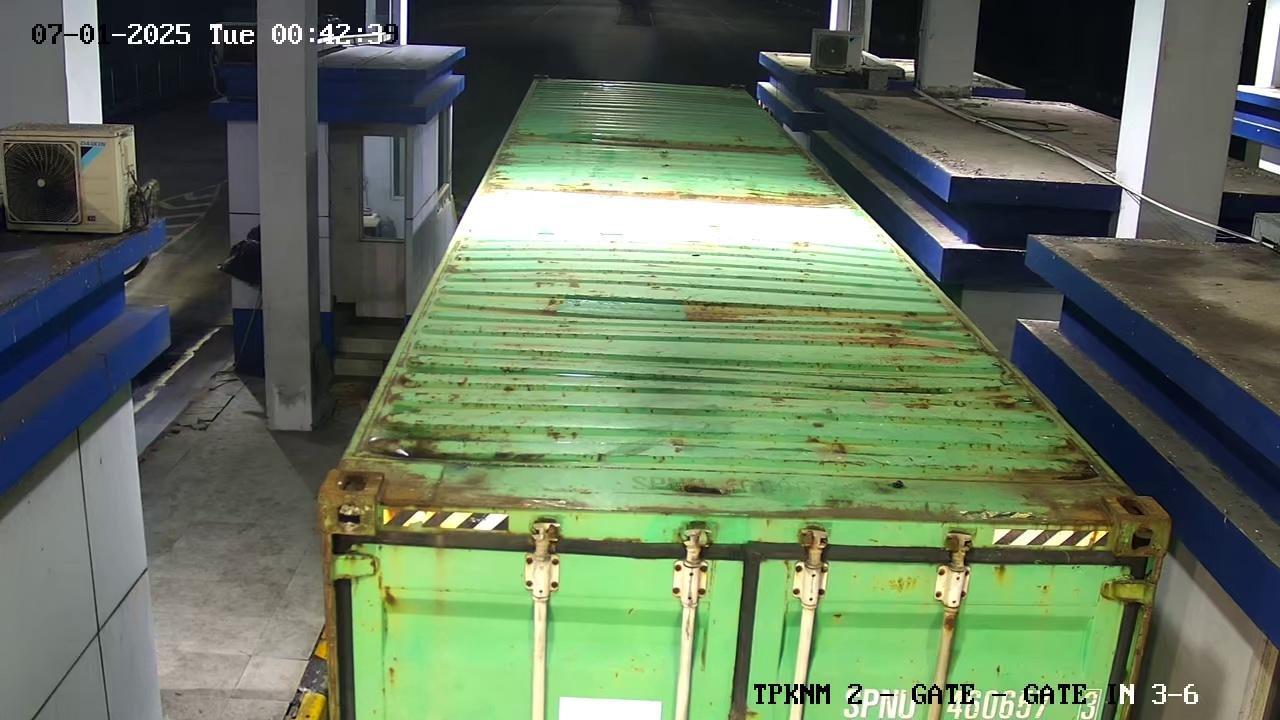Container_ID: (830, 658, 1119, 719)
